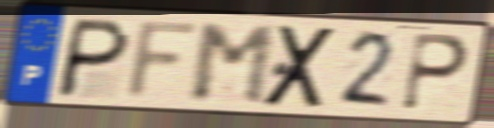2: (333, 28, 400, 114)
F: (121, 18, 206, 103)
M: (188, 23, 278, 108)
P: (52, 15, 134, 101), (398, 30, 472, 114)
X: (258, 23, 342, 110)
